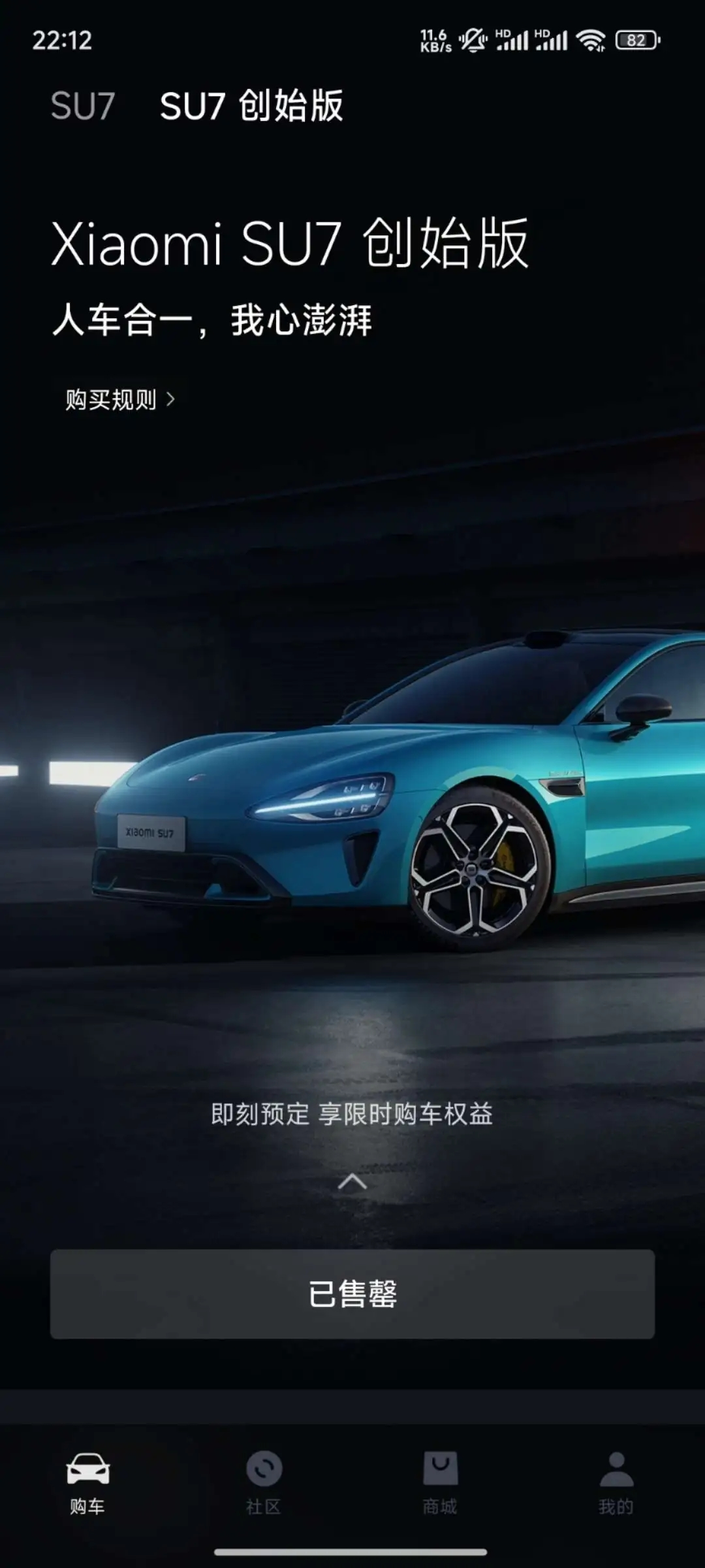su7: (96, 615, 705, 963)
